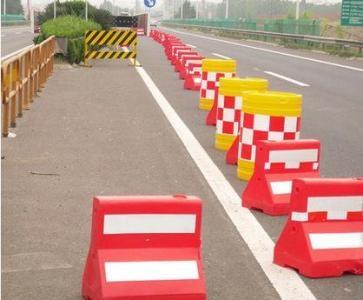cone_barrel: (87, 195, 200, 298), (283, 180, 357, 279), (243, 140, 320, 213), (238, 91, 298, 173), (217, 78, 266, 150), (205, 70, 239, 140), (200, 57, 237, 114)
